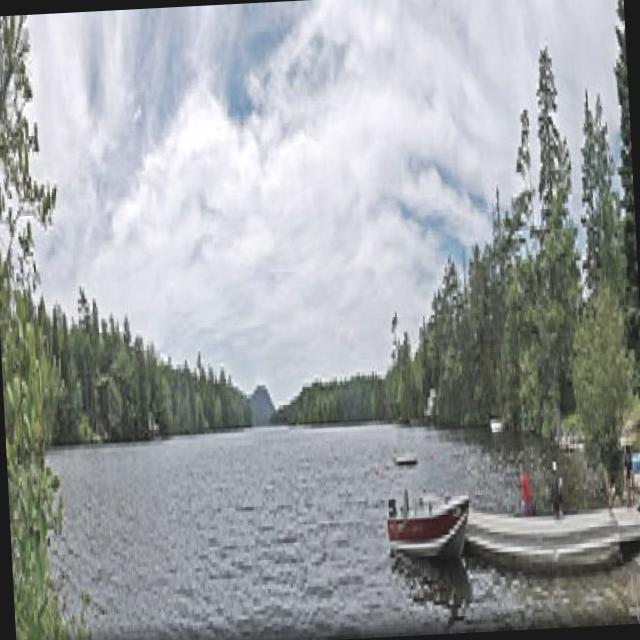Person: (517, 450, 536, 514), (549, 462, 565, 520), (623, 445, 634, 508)
